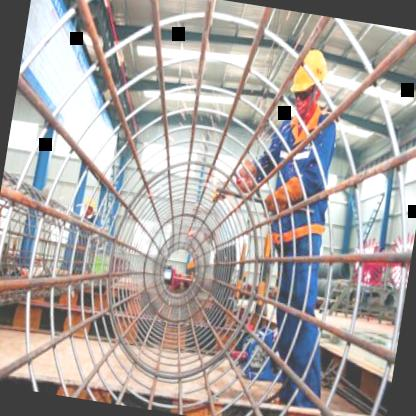helmet: (290, 42, 332, 110)
